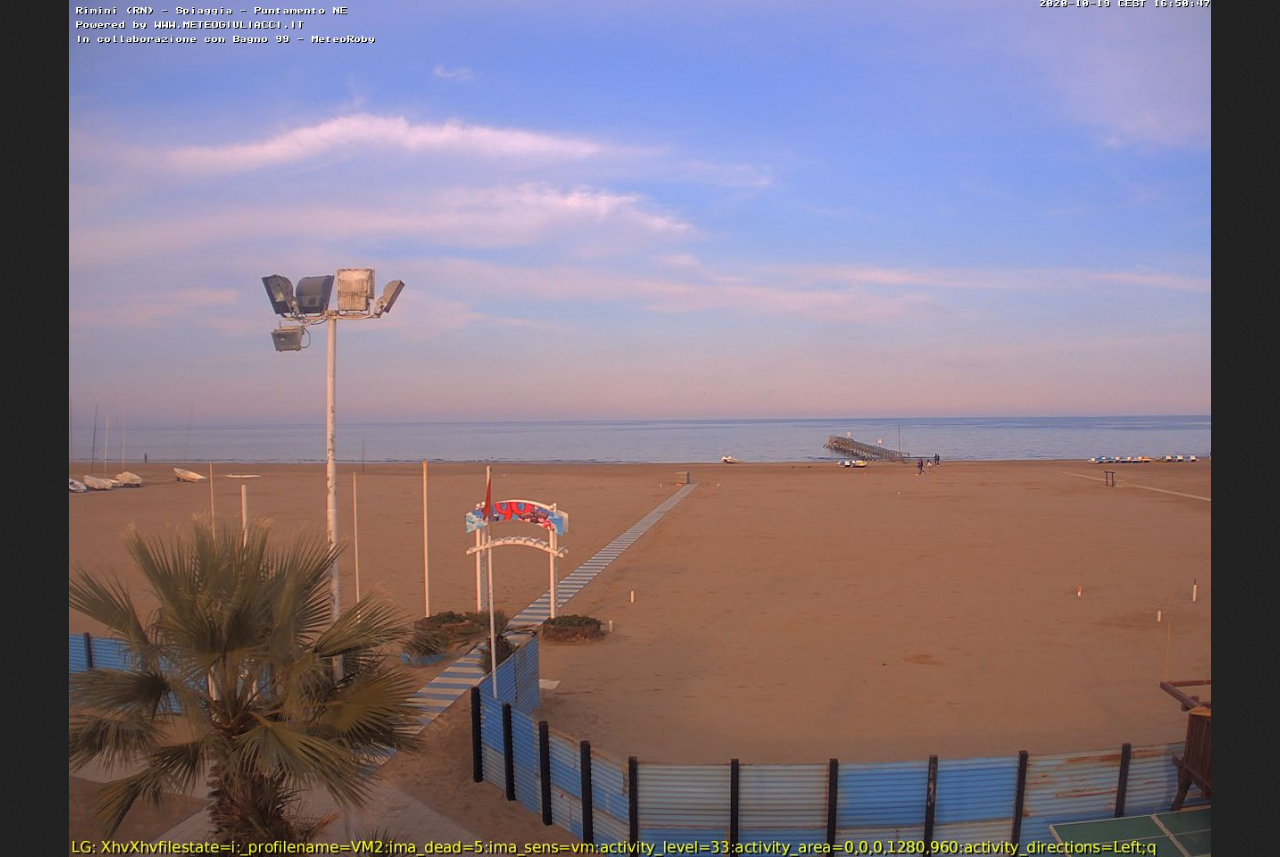no: (477, 473, 493, 521)
